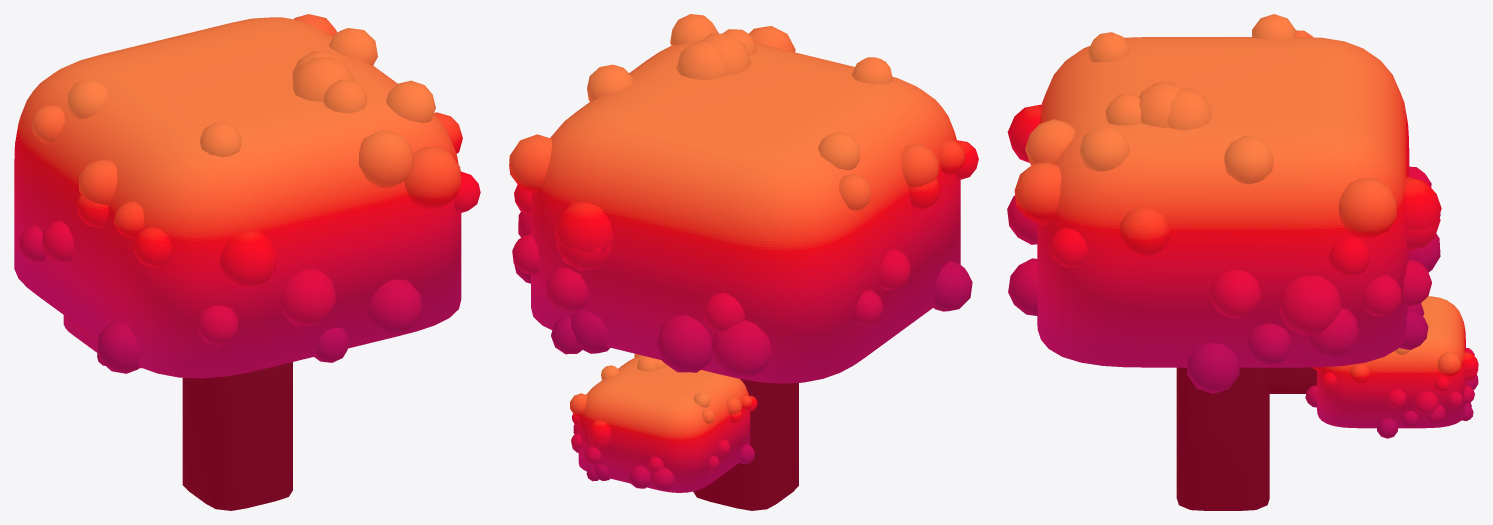
Rendered from red-tree.glb.
3 views of the same model, side by side, from view 1: azimuth 30°, elevation 25°; view 2: azimuth 150°, elevation 25°; view 3: azimuth 270°, elevation 25° (orthographic). The views are drawn at different scales.
Visible parts, largest first — view 1: canopy, trunk, canopy.001; view 2: canopy, canopy.001, trunk; view 3: canopy, canopy.001, trunk, trunk.001.
Part boxes in pixels (left/top/right/bottom): canopy: left=14, top=14, right=480, bottom=378; trunk: left=182, top=362, right=292, bottom=510; canopy.001: left=63, top=315, right=141, bottom=368; canopy: left=509, top=14, right=978, bottom=383; canopy.001: left=570, top=353, right=757, bottom=492; trunk: left=693, top=380, right=798, bottom=510; canopy: left=1007, top=14, right=1441, bottom=393; canopy.001: left=1305, top=296, right=1478, bottom=438; trunk: left=1176, top=367, right=1269, bottom=510; trunk.001: left=1268, top=367, right=1316, bottom=393.
Size of the model in its own units: 2.31 by 2.57 by 2.53.
3 materials, 1 textured.
